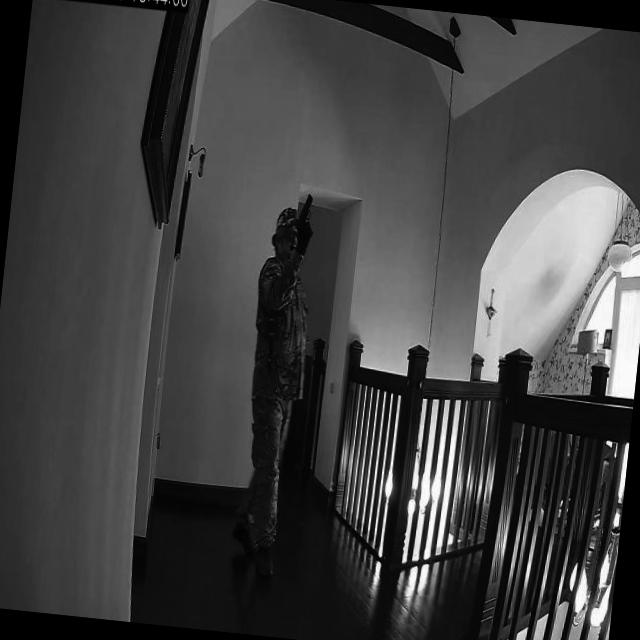gun: (291, 188, 314, 240)
person with a gun: (226, 202, 318, 572)
